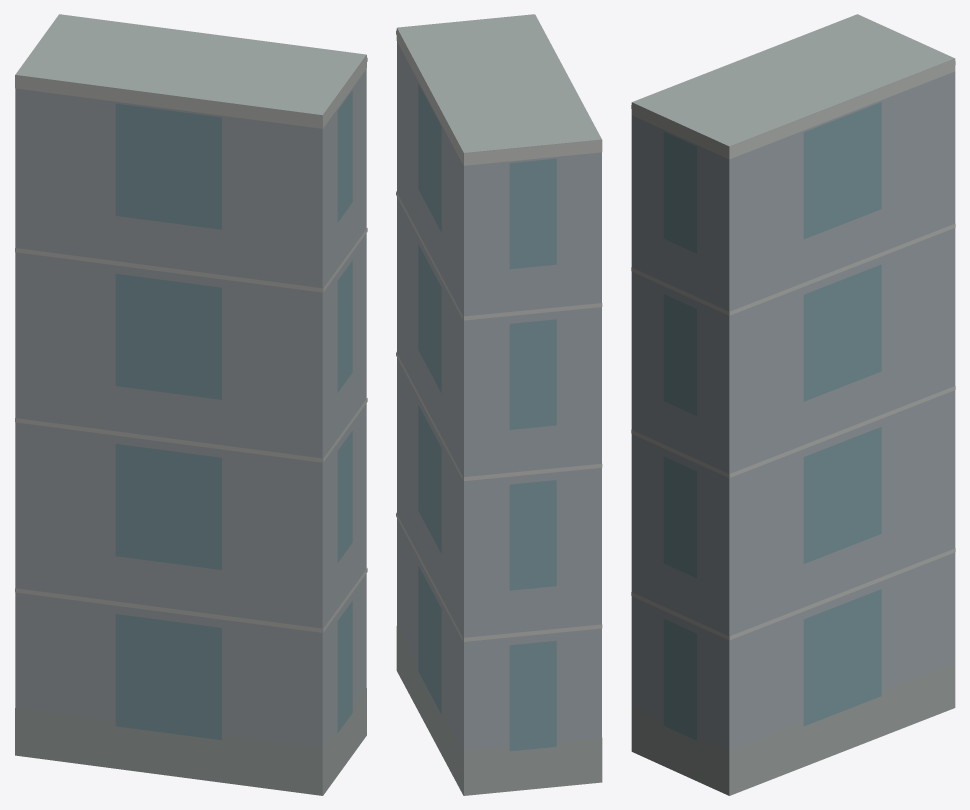
Rendered from survey-upis-32718855.glb.
3 renders of one model, left to right at view 1: azimuth 30°, elevation 25°; view 2: azimuth 150°, elevation 25°; view 3: azimuth 270°, elevation 25°, orthographic. The views are drawn at different scales.
Visible parts, largest first — view 1: survey-upis-32718855.tmp; view 2: survey-upis-32718855.tmp; view 3: survey-upis-32718855.tmp.
Boxes of the visible parts, bbox=[...] form: survey-upis-32718855.tmp: bbox=[15, 14, 367, 795]; survey-upis-32718855.tmp: bbox=[396, 14, 602, 795]; survey-upis-32718855.tmp: bbox=[631, 14, 955, 795].
Bounding box in the file's own units: 5.36 × 12.2 × 5.53.
